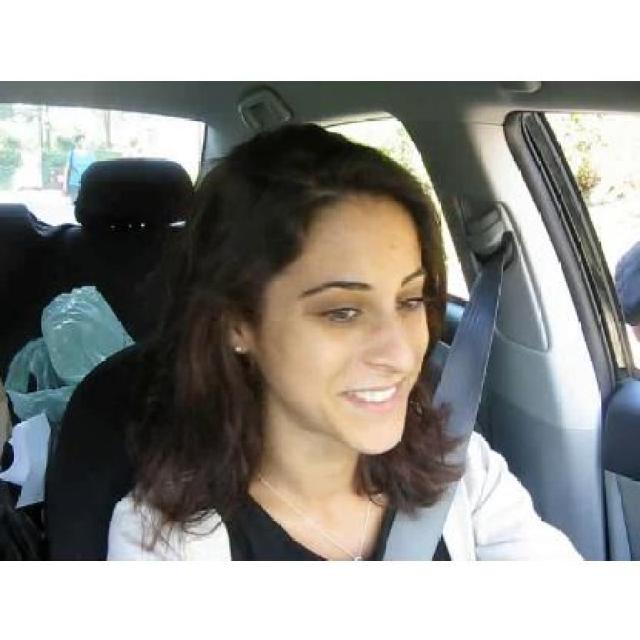attentif: (214, 124, 432, 453)
